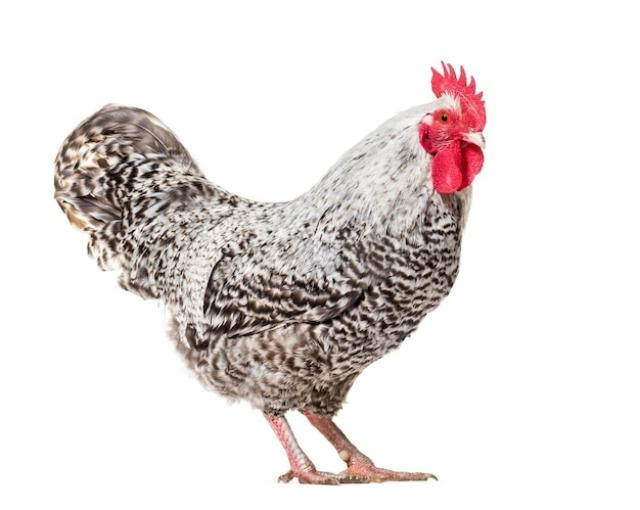Chicken: (53, 61, 488, 483)
